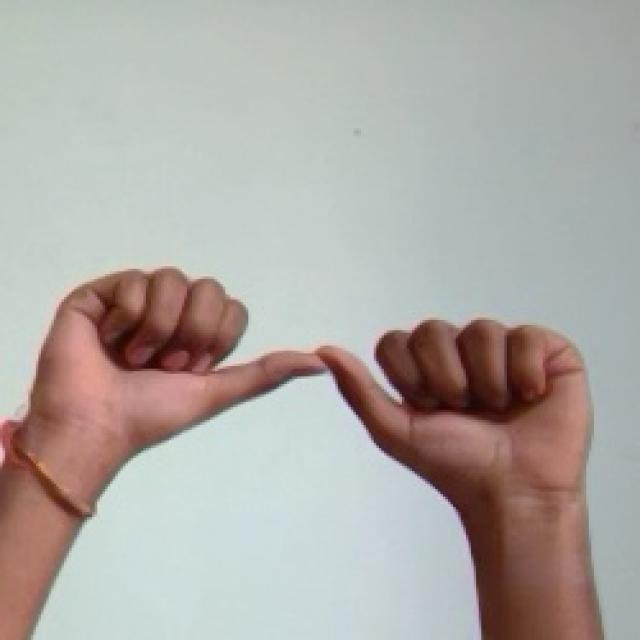Alphabet-A: (26, 263, 601, 523)
